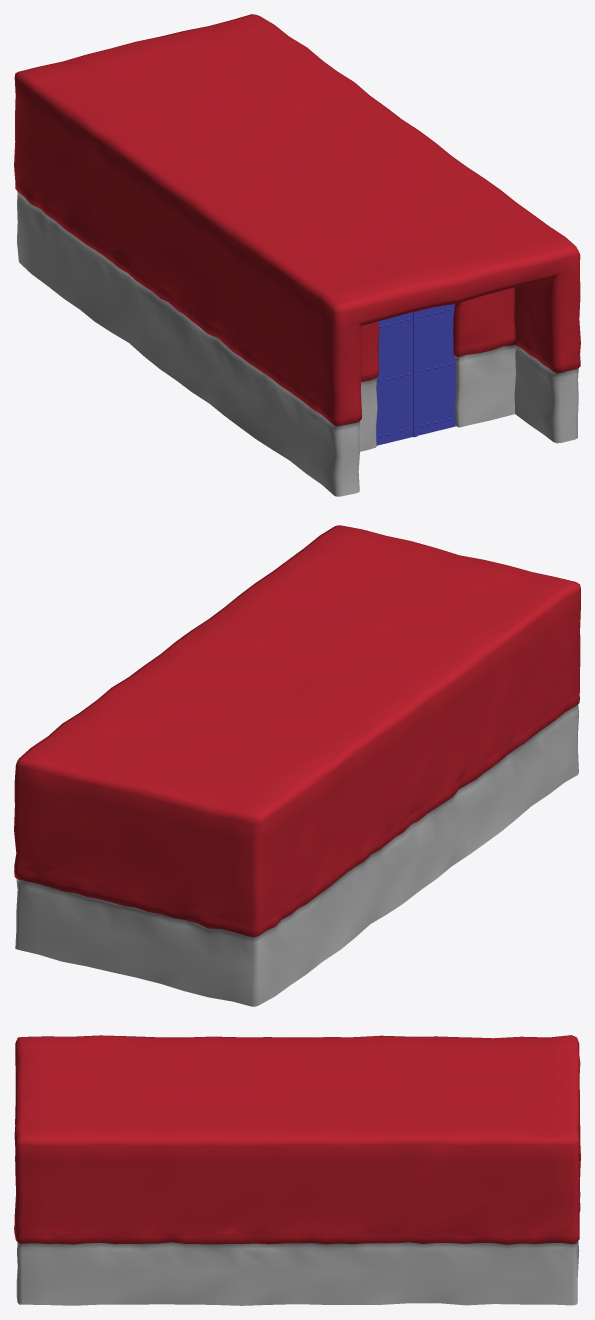
File: SM_TekliMegaron.fbx
3 renders of one model, top to bottom at view 1: azimuth 30°, elevation 25°; view 2: azimuth 150°, elevation 25°; view 3: azimuth 270°, elevation 25°, orthographic. The views are drawn at different scales.
Parts seen in each view (by area): view 1: SM_Tekli_Megaron; view 2: SM_Tekli_Megaron; view 3: SM_Tekli_Megaron.
Boxes of the visible parts, x1,y1,x2,y2 form: SM_Tekli_Megaron: (14,14,580,496); SM_Tekli_Megaron: (14,525,580,1006); SM_Tekli_Megaron: (14,1035,580,1305).
Bounding box in the file's own units: 889 × 660 × 2005.
